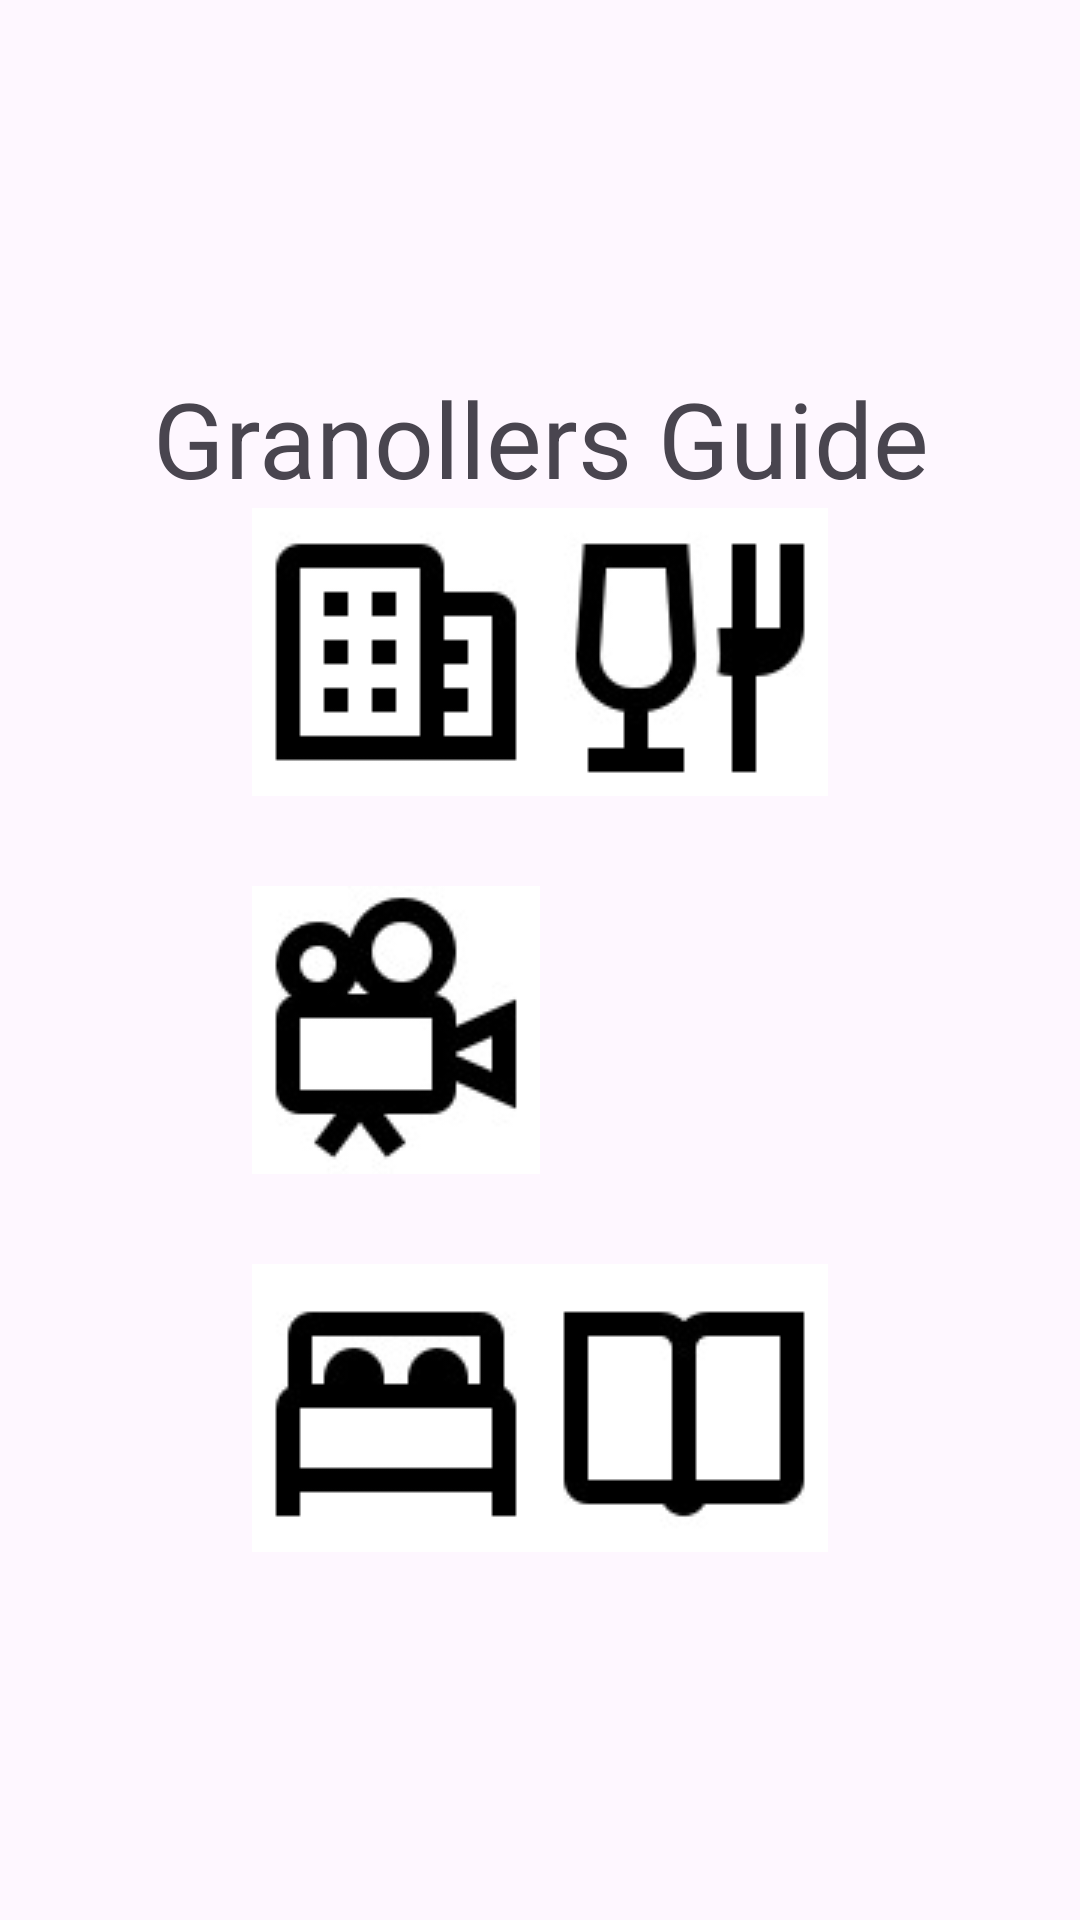

Screen size 1080 x 1920. Icon name, then its box in pixels as (x1=x1, y1=y1, x2=x2, y2=y2):
comida: (x1=575, y1=543, x2=805, y2=773)
edificio: (x1=275, y1=543, x2=517, y2=761)
hotel: (x1=275, y1=1311, x2=517, y2=1517)
libro: (x1=563, y1=1311, x2=805, y2=1517)
